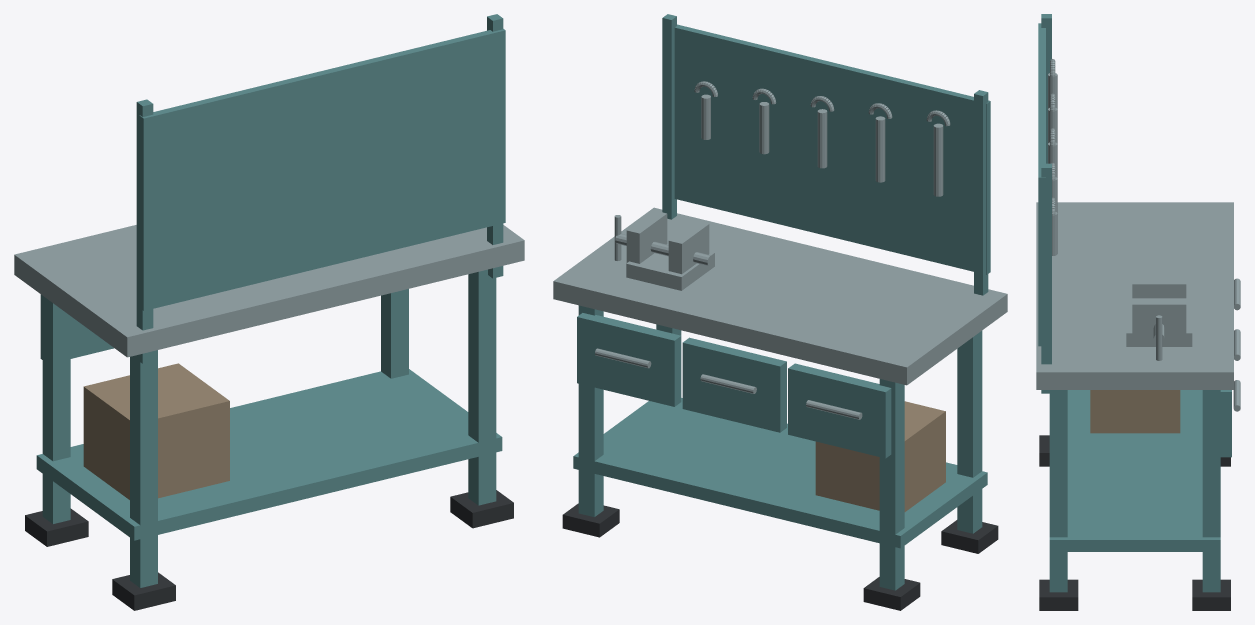
Rendered from maintenance_workbench.glb.
3 renders of one model, left to right at view 1: azimuth 30°, elevation 25°; view 2: azimuth 150°, elevation 25°; view 3: azimuth 270°, elevation 25°, orthographic. The views are drawn at different scales.
Visible parts, largest first — view 1: maintenance_workbench_SPOT_fitout_paint.001, maintenance_workbench_SPOT_fitout_steel.001, maintenance_workbench_SPOT_fitout_wood.001, maintenance_workbench_SPOT_fitout_rubber.001; view 2: maintenance_workbench_SPOT_fitout_paint.001, maintenance_workbench_SPOT_fitout_steel.001, maintenance_workbench_SPOT_fitout_wood.001, maintenance_workbench_SPOT_fitout_rubber.001; view 3: maintenance_workbench_SPOT_fitout_steel.001, maintenance_workbench_SPOT_fitout_paint.001, maintenance_workbench_SPOT_fitout_wood.001, maintenance_workbench_SPOT_fitout_rubber.001.
Boxes of the visible parts, box(x1,y1,x2,y2) form: maintenance_workbench_SPOT_fitout_paint.001: box(36, 14, 505, 587); maintenance_workbench_SPOT_fitout_steel.001: box(14, 225, 524, 357); maintenance_workbench_SPOT_fitout_wood.001: box(83, 363, 229, 499); maintenance_workbench_SPOT_fitout_rubber.001: box(25, 490, 513, 610); maintenance_workbench_SPOT_fitout_paint.001: box(573, 14, 990, 590); maintenance_workbench_SPOT_fitout_steel.001: box(553, 81, 1007, 419); maintenance_workbench_SPOT_fitout_wood.001: box(815, 401, 945, 511); maintenance_workbench_SPOT_fitout_rubber.001: box(562, 503, 998, 610); maintenance_workbench_SPOT_fitout_steel.001: box(1036, 59, 1240, 411); maintenance_workbench_SPOT_fitout_paint.001: box(1038, 14, 1231, 592); maintenance_workbench_SPOT_fitout_wood.001: box(1090, 390, 1180, 433); maintenance_workbench_SPOT_fitout_rubber.001: box(1039, 435, 1230, 610).
Size of the model in its own units: 1.34 by 1.62 by 0.682.
